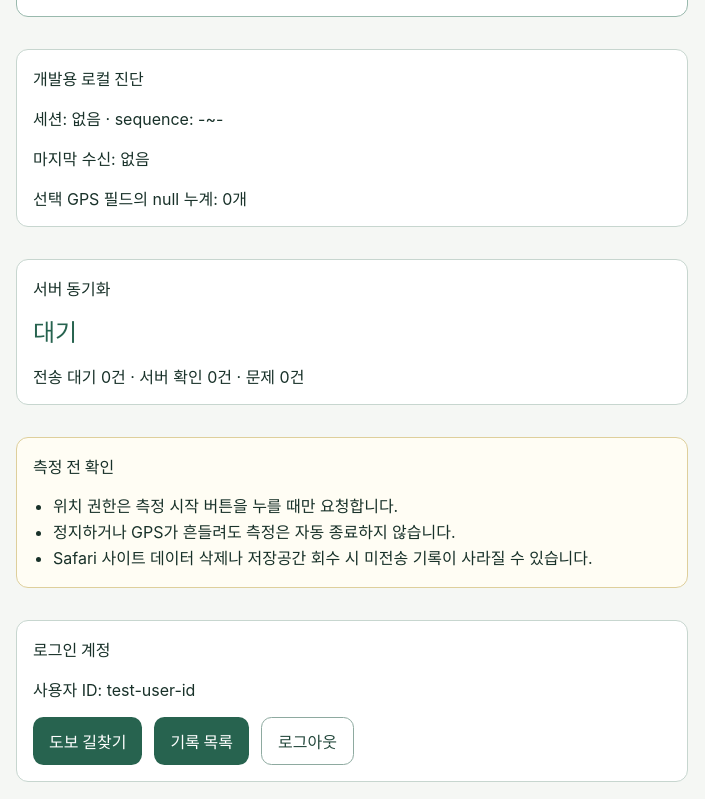
Scenario: 인증 라우팅 › 로그아웃 후 로그인 화면으로 이동한다
(page scrolled)
Click the button "로그아웃" at (308, 741), box [261,717,354,766]
(page scrolled)
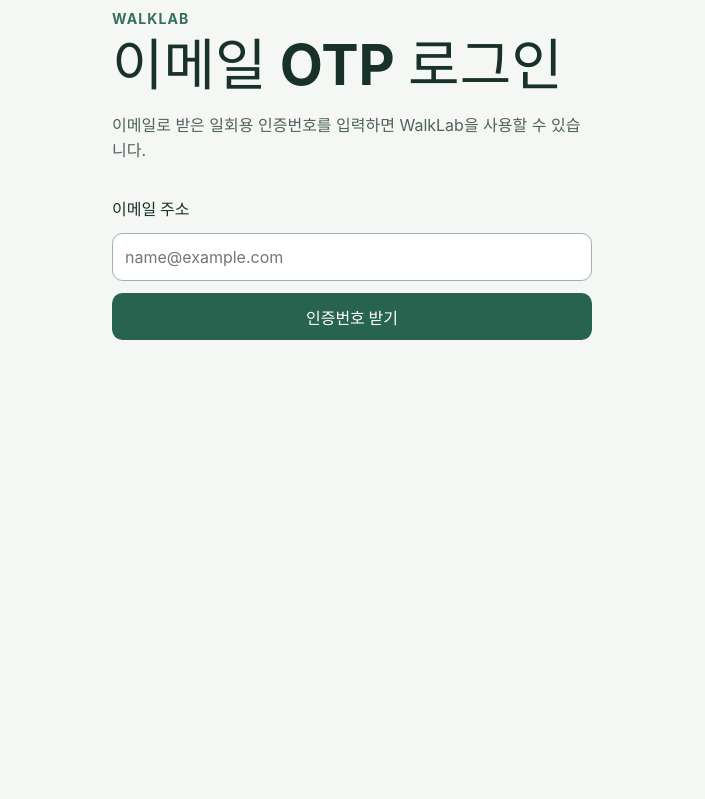
Now the heading "이메일 OTP 로그인" is shown, box [112,35,592,97]
